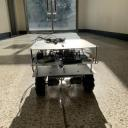cart: (29, 39, 99, 95)
